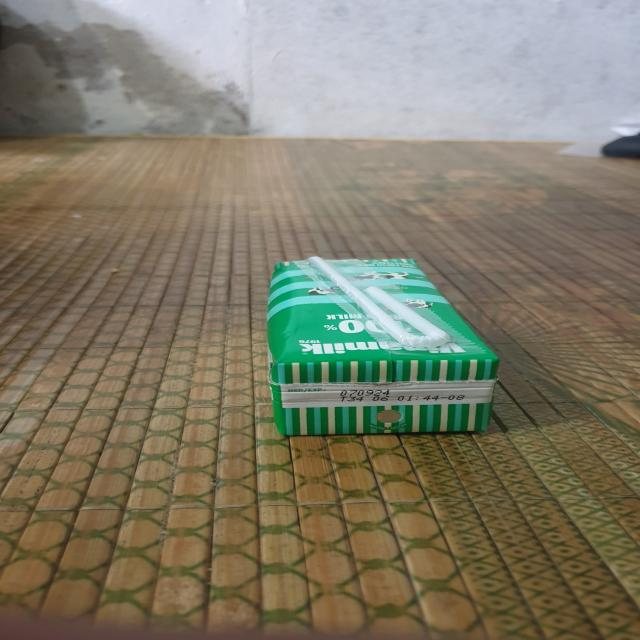Vina: (261, 249, 506, 438)
